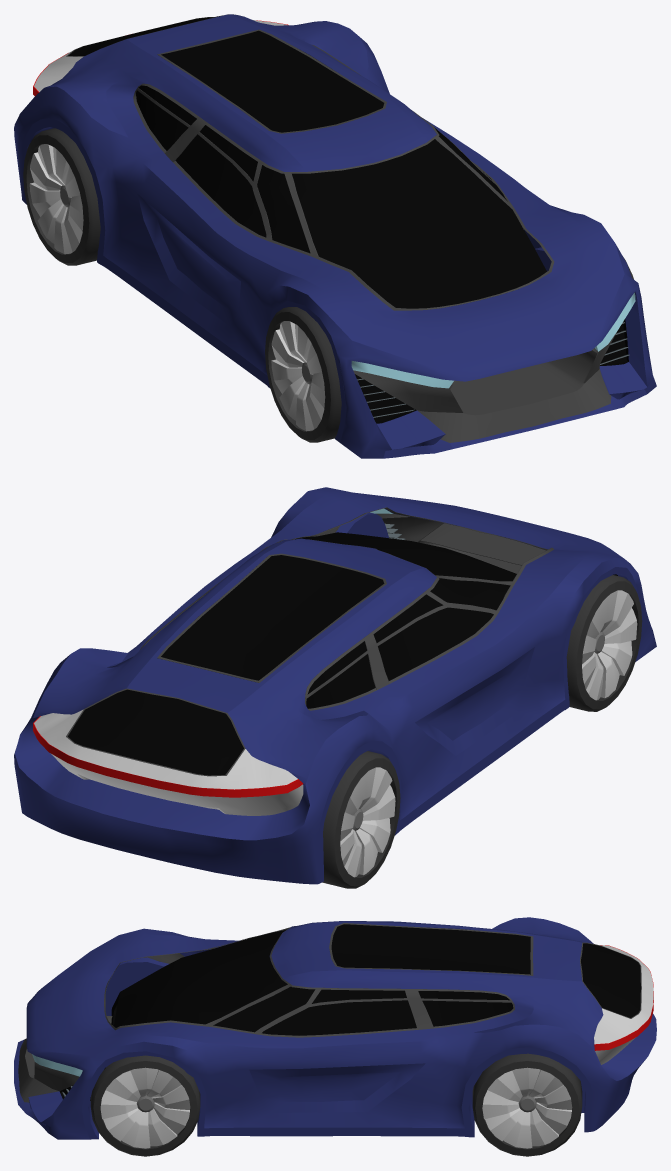
The model's file is Audi.glb.
The picture shows the model from 3 angles, top to bottom: view 1: azimuth 30°, elevation 25°; view 2: azimuth 150°, elevation 25°; view 3: azimuth 270°, elevation 25°; orthographic projection. The views are drawn at different scales.
Visible parts, largest first — view 1: Body, Windows, FrontPlate, Spokes, Tire, Windowframe, VentInner, Headlights, Trunk; view 2: Body, Windows, Spokes, Trunk, Tire, Windowframe, FrontPlate, BackLights; view 3: Body, Windows, Spokes, Tire, Windowframe, Trunk, FrontPlate, BackLights, Center, Headlights.
Boxes of the visible parts, x1,y1,x2,y2 form: Body: (14, 14, 656, 458); Windows: (68, 15, 546, 308); FrontPlate: (353, 332, 616, 442); Spokes: (29, 144, 325, 431); Tire: (23, 128, 633, 442); Windowframe: (66, 14, 554, 310); VentInner: (355, 319, 628, 423); Headlights: (351, 292, 635, 388); Trunk: (34, 19, 287, 91); Body: (14, 487, 656, 884); Windows: (68, 532, 516, 775); Spokes: (340, 590, 637, 877); Trunk: (34, 709, 303, 815); Tire: (314, 526, 642, 888); Windowframe: (66, 507, 553, 776); FrontPlate: (376, 513, 545, 573); BackLights: (33, 716, 303, 797); Body: (14, 917, 656, 1139); Windows: (111, 924, 640, 1035); Spokes: (100, 1067, 572, 1148); Tire: (90, 953, 582, 1156); Windowframe: (104, 923, 641, 1037); Trunk: (594, 945, 653, 1064); FrontPlate: (18, 1016, 112, 1102); BackLights: (594, 945, 653, 1050); Center: (136, 1095, 536, 1112); Headlights: (32, 1054, 82, 1076).
Bounding box in the file's own units: 6.85 × 4.02 × 15.38.
